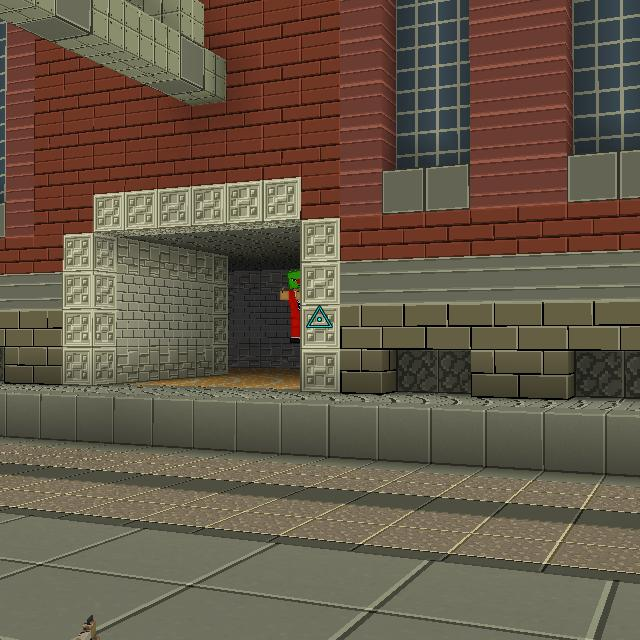enemy: (284, 270, 301, 343)
